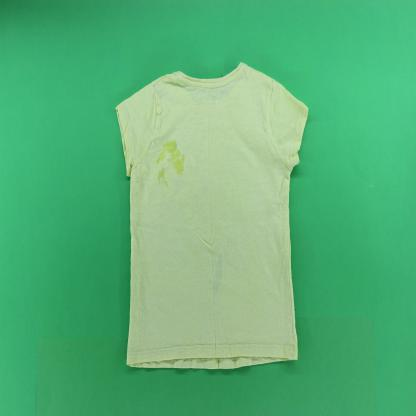stain: (155, 137, 187, 178), (157, 166, 170, 189)
